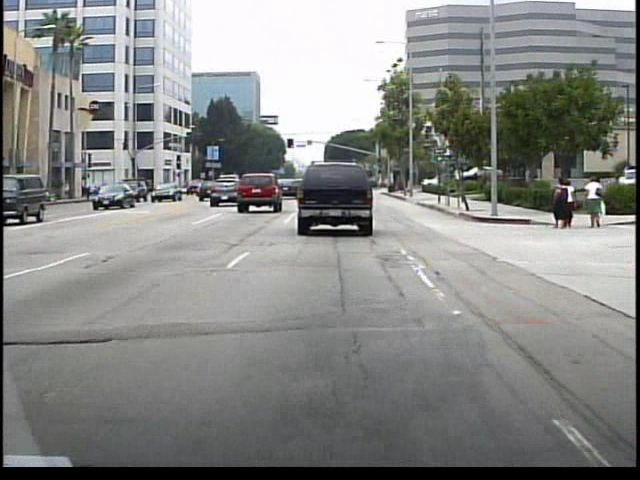person: (584, 174, 605, 231), (552, 176, 569, 232), (566, 181, 578, 229)
